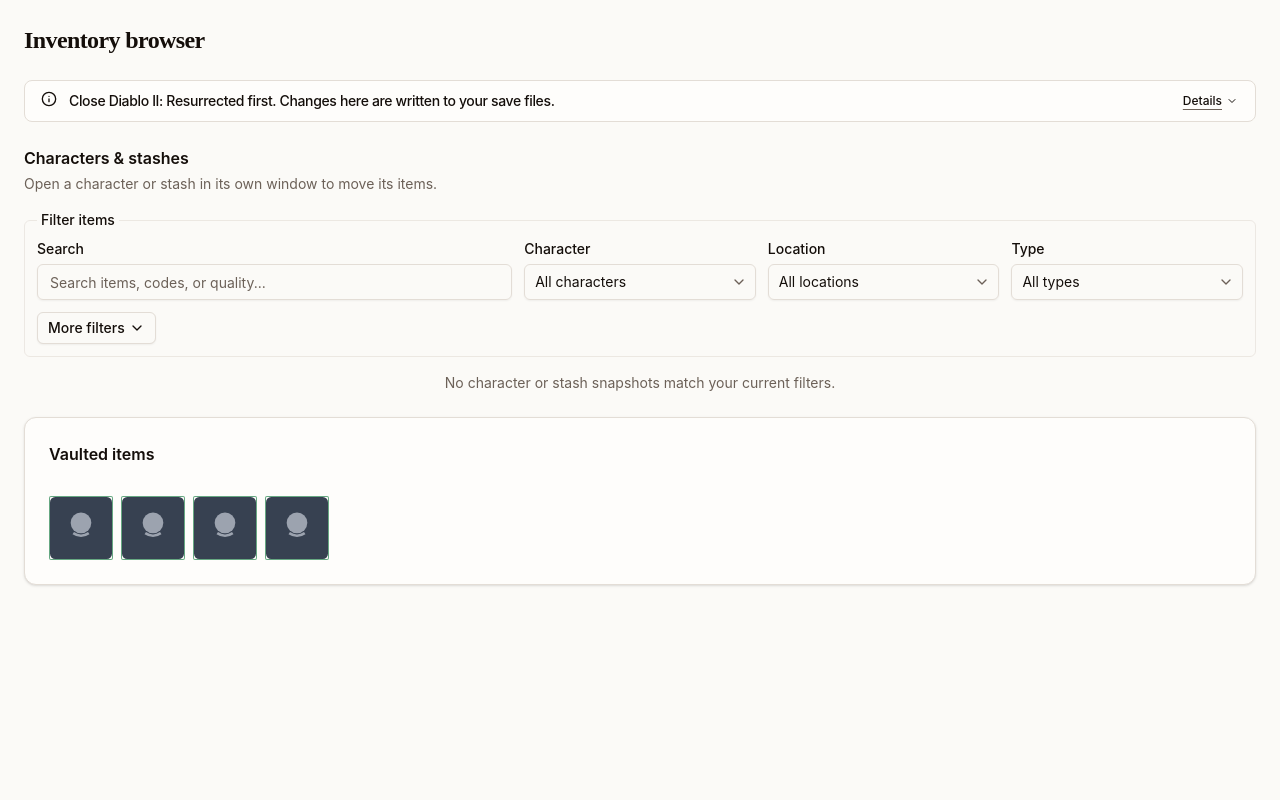
Test case: When InventoryBrowserMain is rendered › If the Other type is chosen in the filters › Then the vault only shows items of types other than unique, set, runeword and rune
This screenshot has width=1280, height=800.
Expected: the button named "Vaulted item Shako" is shown, x1=49 y1=496 x2=113 y2=560
Click the dropdown labelled "type".
click(1127, 282)  # box x1=1011 y1=264 x2=1243 y2=300
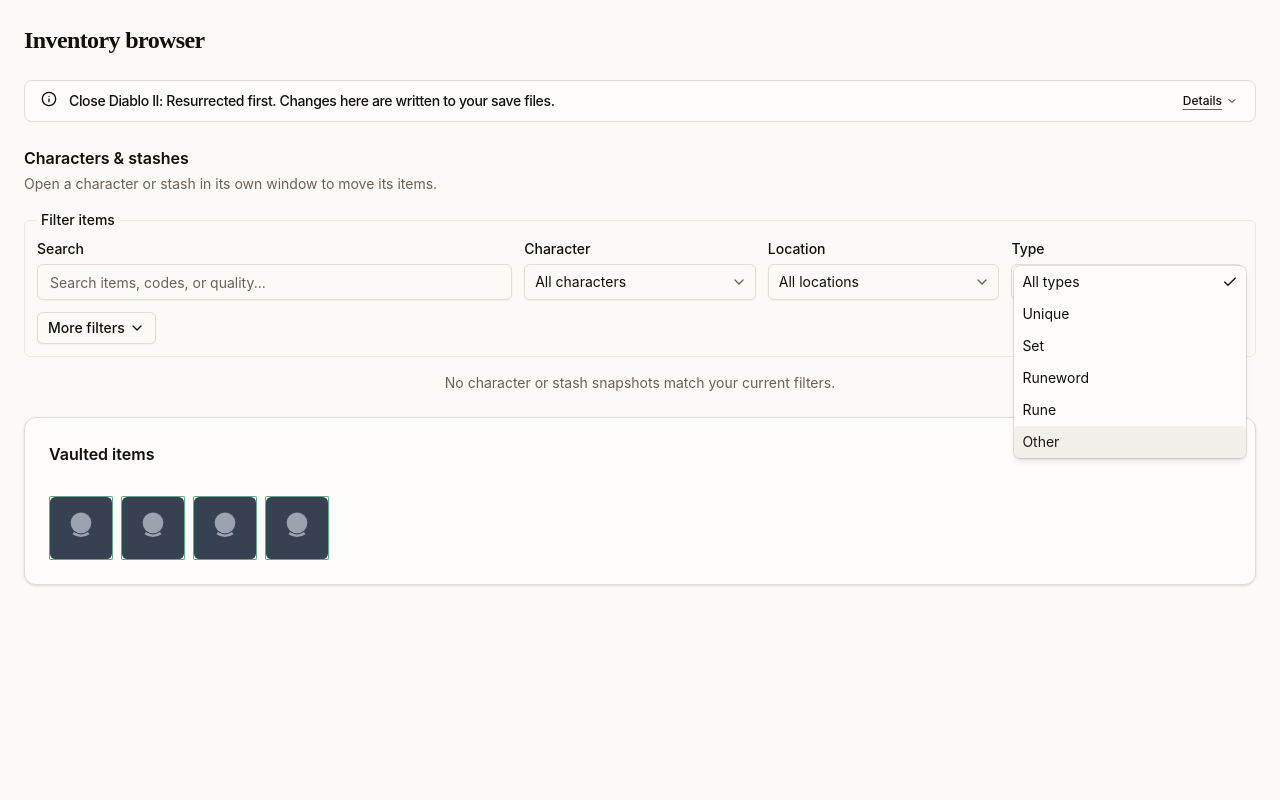
Click the option "Other".
click(1130, 442)  # box x1=1014 y1=426 x2=1246 y2=458
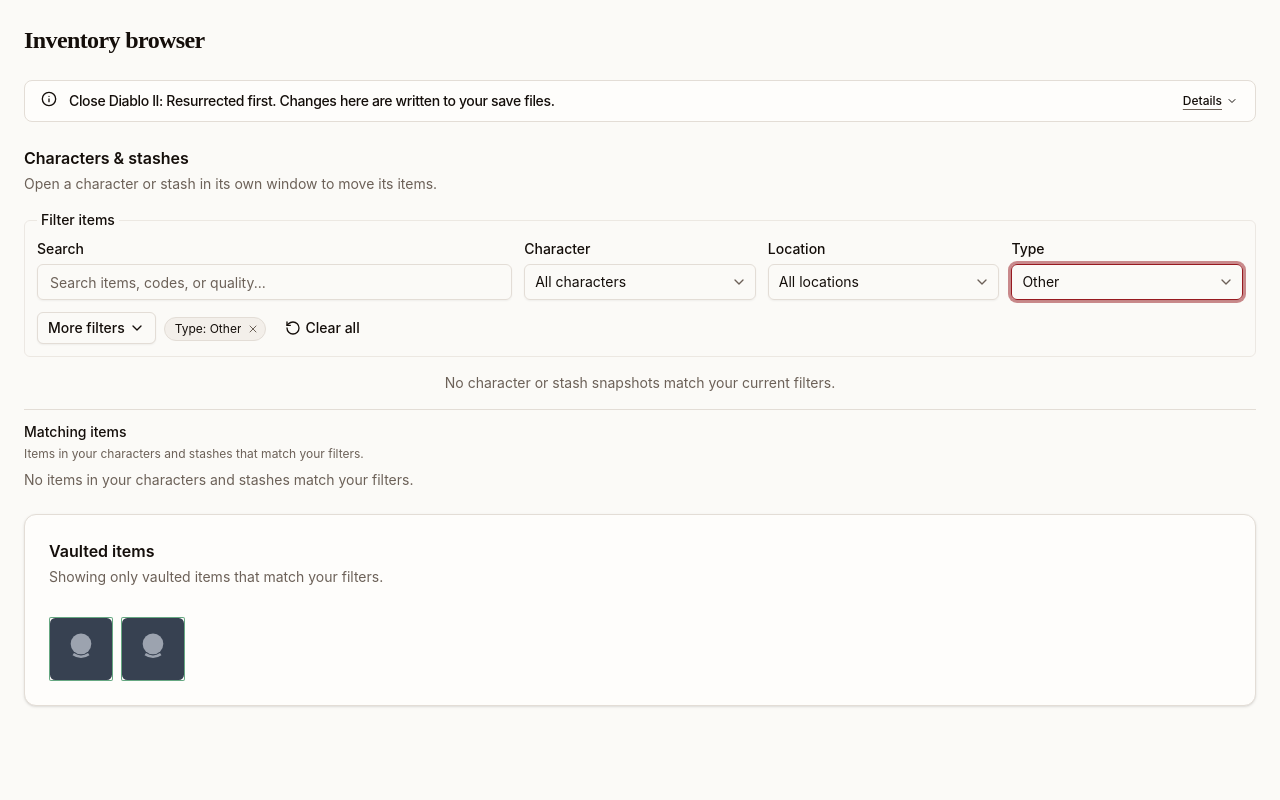
Expected: the button named "Vaulted item Mystery Charm" is shown, x1=49 y1=617 x2=113 y2=681
Result: the picture "Vaulted item Shako" is gone
Result: the picture "Vaulted item Ber" is gone
